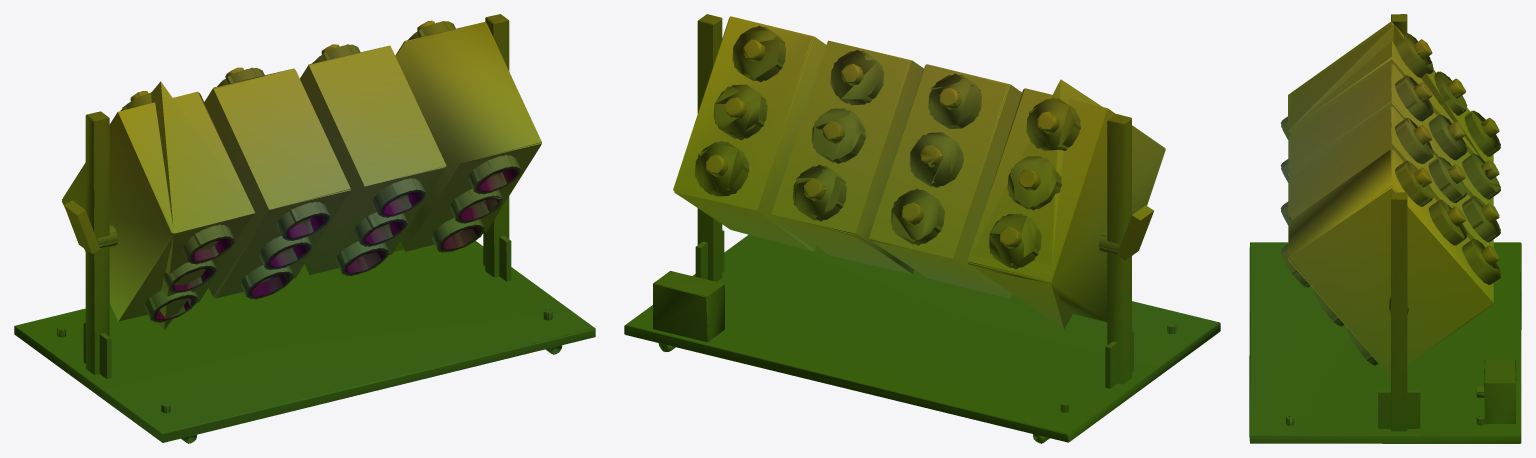
The model's file is RCLModule_salvage_hauler_minefield_ordnance_carrier_fueldrums_LODs.fbx.
3 views of the same model, side by side, from view 1: azimuth 30°, elevation 25°; view 2: azimuth 150°, elevation 25°; view 3: azimuth 270°, elevation 25° (orthographic). The views are drawn at different scales.
Visible parts, largest first — view 1: LOD1_RCLModule_salvage_hauler_minefield_ordnance_carrier_fue (×3), LOD2_RCLModule_salvage_hauler_minefield_ordnance_carrier_fue (×2); view 2: LOD1_RCLModule_salvage_hauler_minefield_ordnance_carrier_fue (×3), LOD2_RCLModule_salvage_hauler_minefield_ordnance_carrier_fue (×3); view 3: LOD1_RCLModule_salvage_hauler_minefield_ordnance_carrier_fue (×3), LOD2_RCLModule_salvage_hauler_minefield_ordnance_carrier_fue (×3).
Part boxes in pixels (x1,y1,x2,y2): LOD1_RCLModule_salvage_hauler_minefield_ordnance_carrier_fue (×3): [14, 14, 595, 443]; LOD2_RCLModule_salvage_hauler_minefield_ordnance_carrier_fue (×2): [16, 17, 595, 443]; LOD1_RCLModule_salvage_hauler_minefield_ordnance_carrier_fue (×3): [624, 14, 1220, 443]; LOD2_RCLModule_salvage_hauler_minefield_ordnance_carrier_fue (×3): [624, 16, 1219, 443]; LOD1_RCLModule_salvage_hauler_minefield_ordnance_carrier_fue (×3): [1249, 14, 1521, 443]; LOD2_RCLModule_salvage_hauler_minefield_ordnance_carrier_fue (×3): [1250, 19, 1520, 443].
Size of the model in its own units: 65.38 by 42.01 by 38.
